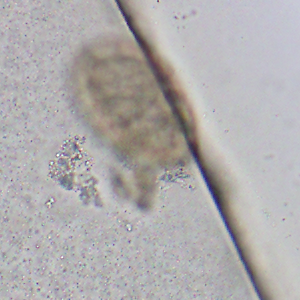Fasciola_hepatica_egg: (69, 31, 200, 172)
